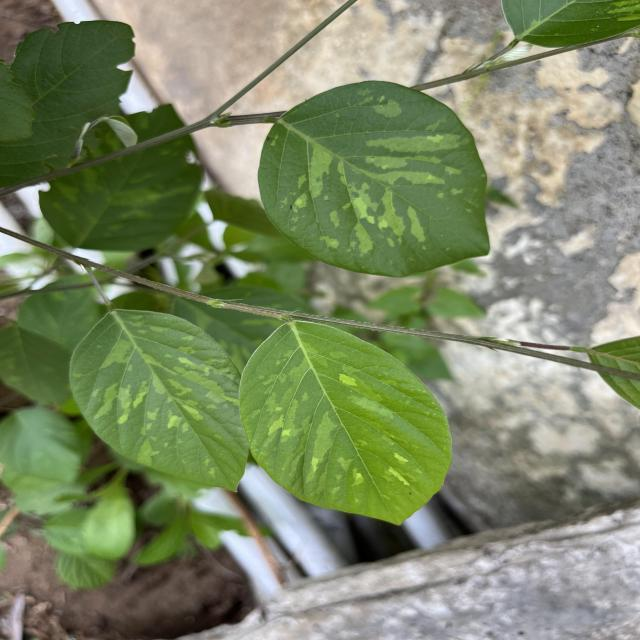Desmodium gangeticum: (255, 78, 493, 280), (236, 319, 454, 528), (66, 308, 252, 495)
